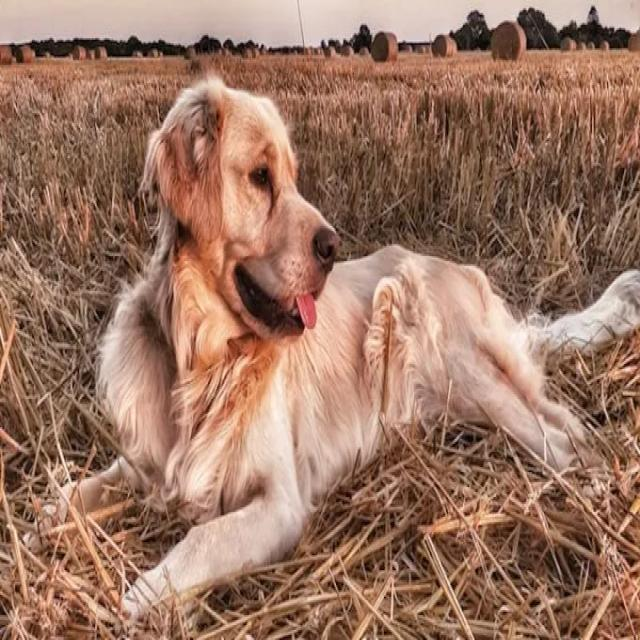fungal infection: (261, 190, 286, 228)
